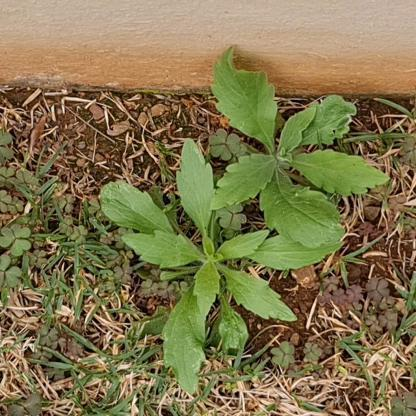Weeds: (101, 139, 345, 391), (211, 44, 388, 245)
